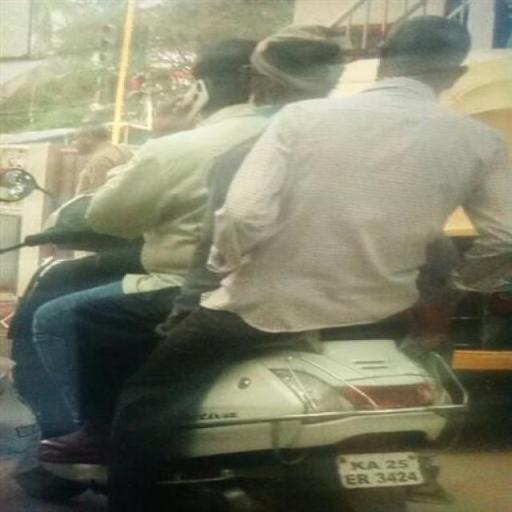tripple riding: (23, 14, 505, 352)
